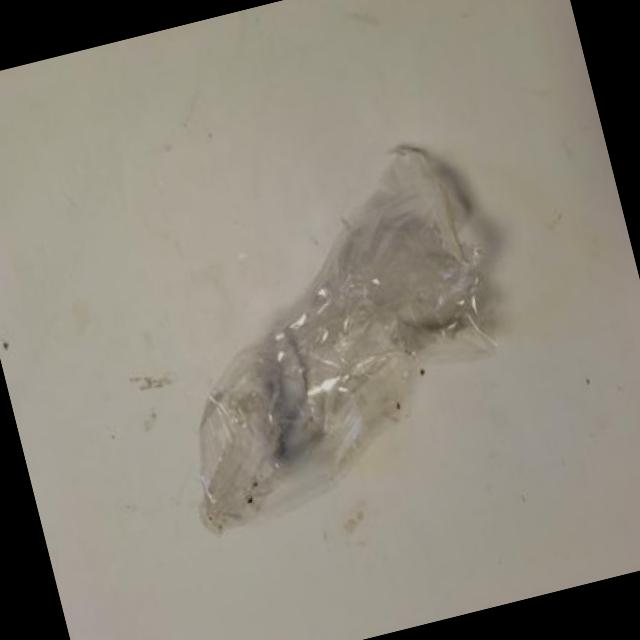Recycle: (118, 129, 546, 552)
